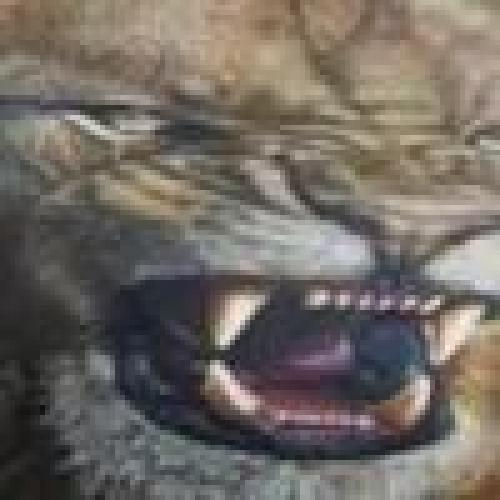lion-endangered: (6, 12, 494, 492)
